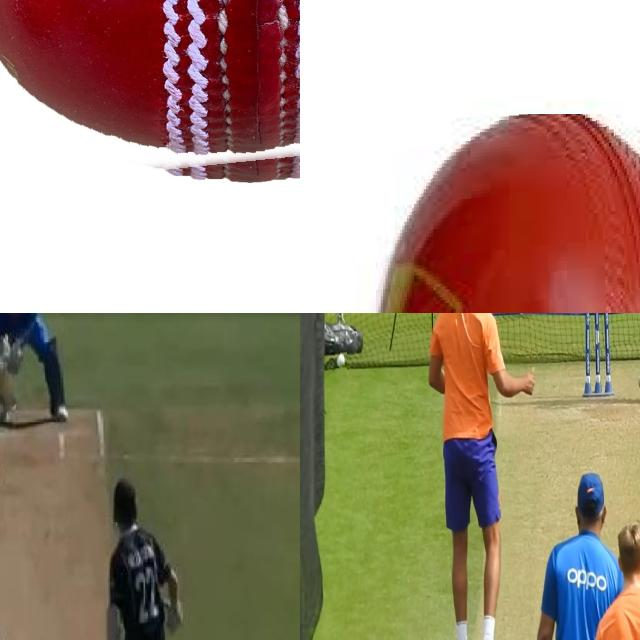Cricket ball: (0, 0, 300, 191), (359, 114, 640, 313), (335, 352, 347, 372)
Stumps: (582, 313, 613, 397)
